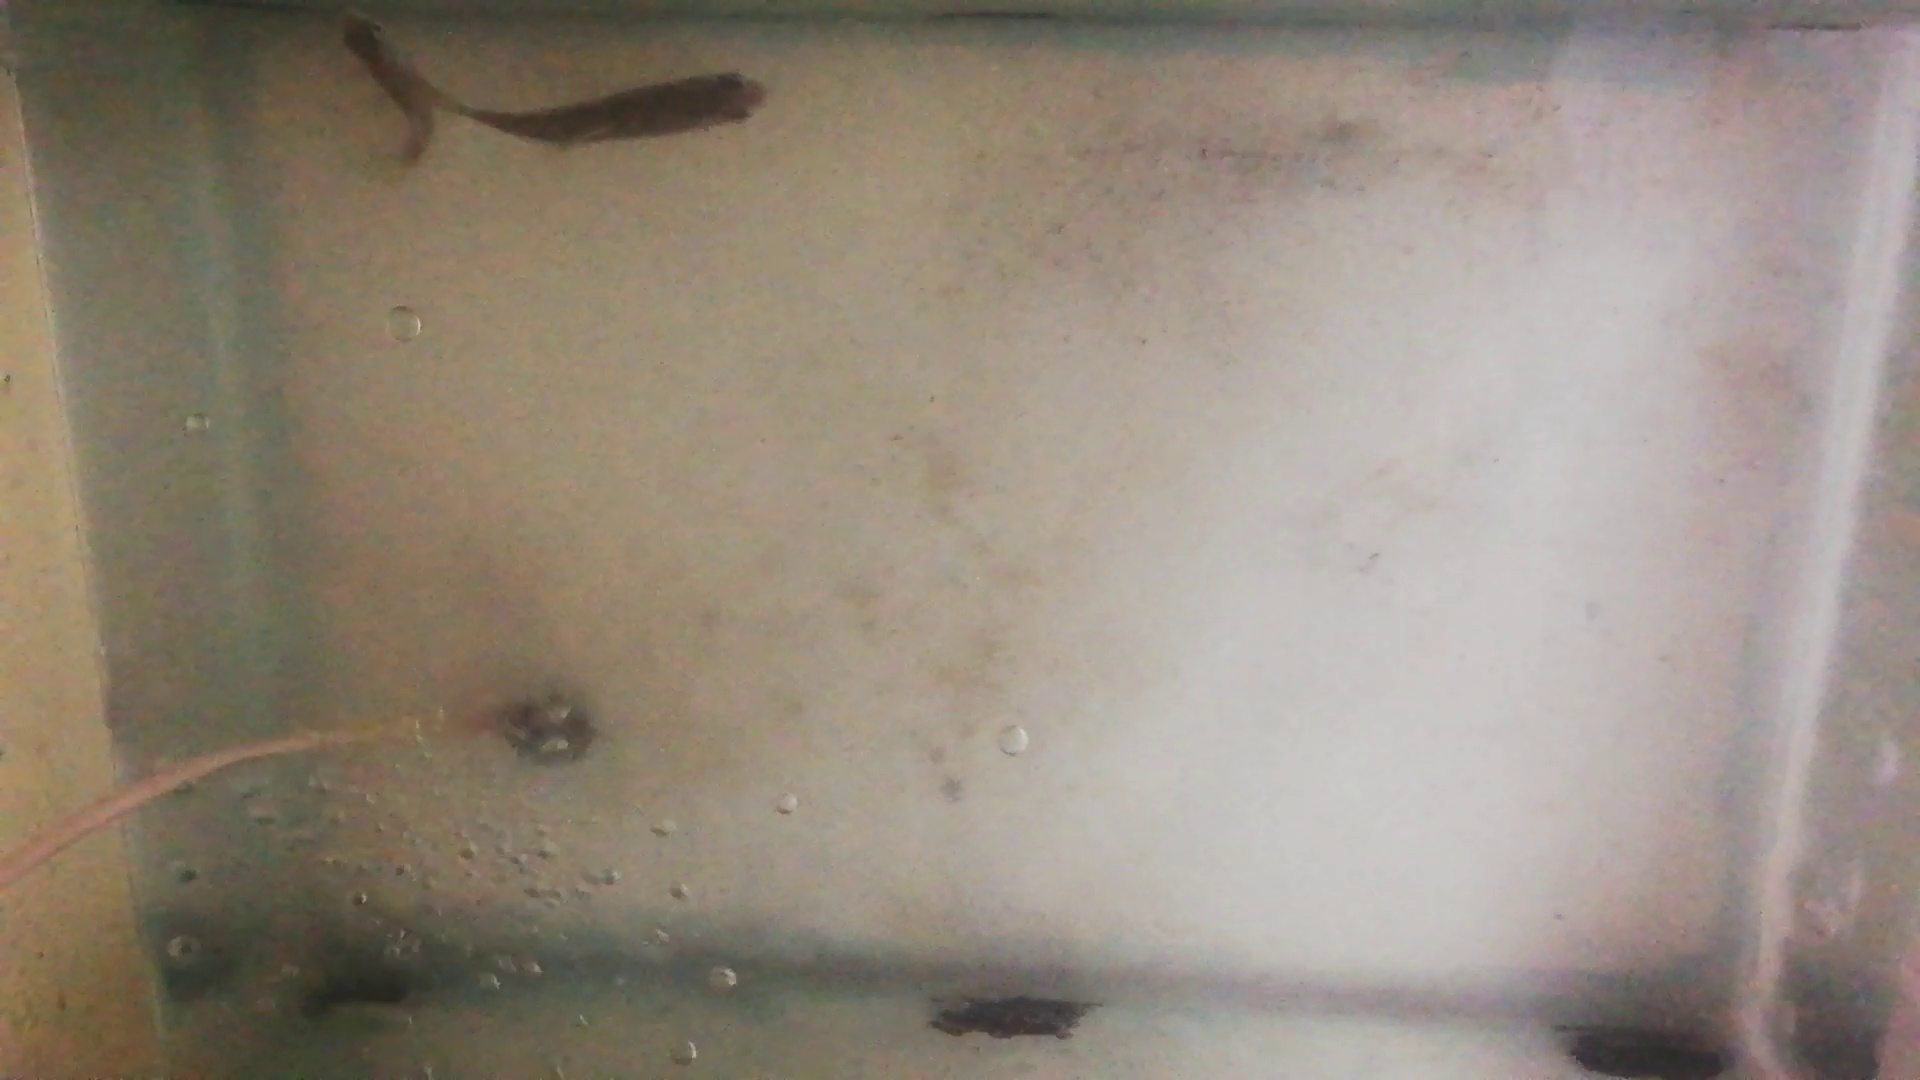fish: (458, 69, 767, 146), (336, 5, 436, 162)
